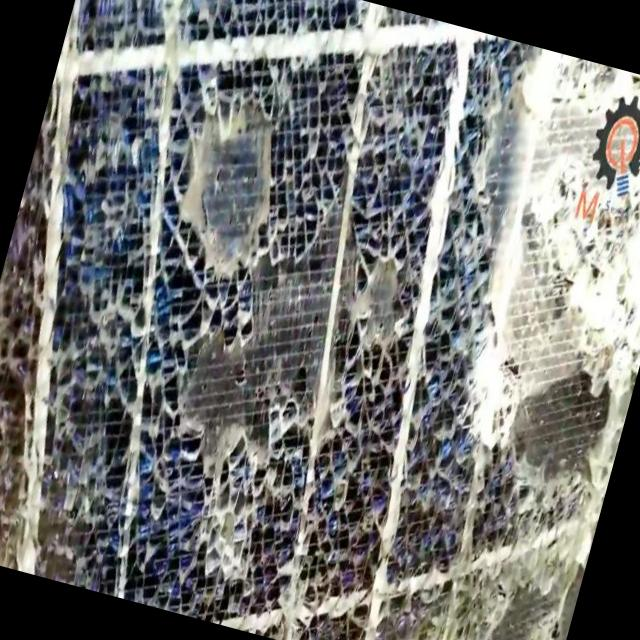faulty: (0, 0, 640, 640), (87, 88, 474, 546)
